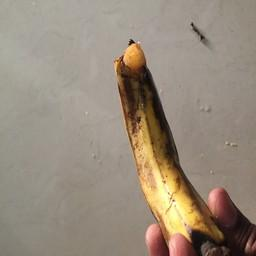Bad_banana: (110, 39, 221, 256)
